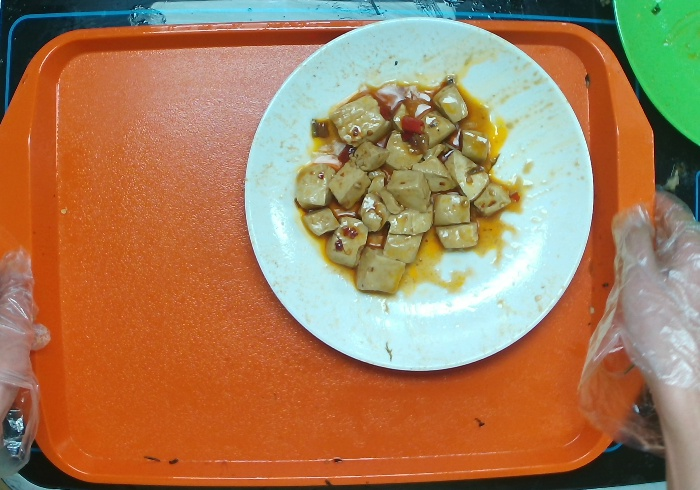HZYJPL-Bai_Se_Yuan_Pan: (237, 9, 595, 372)
